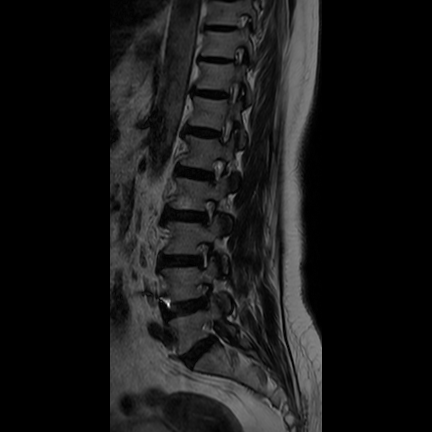LFS0: (191, 193, 223, 232), (200, 152, 230, 193)
